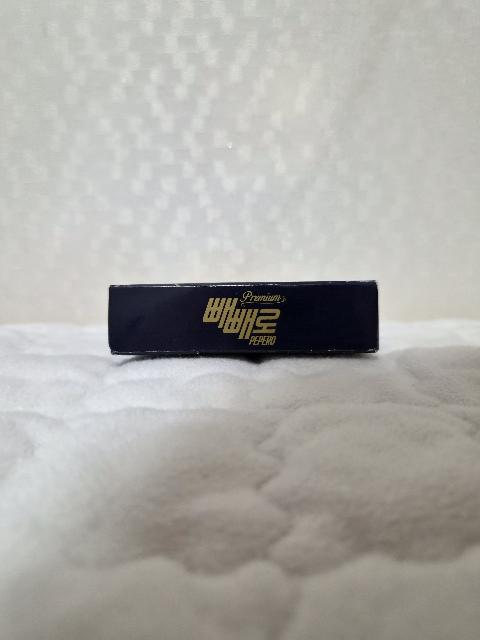pepero: (108, 280, 379, 355)
